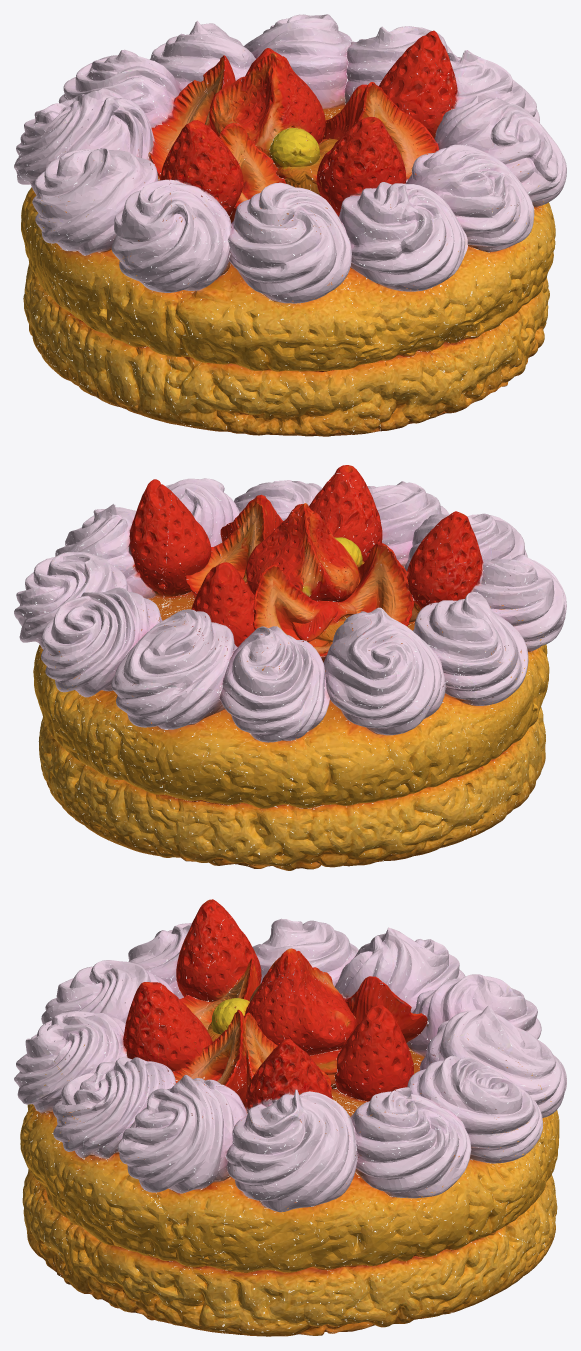
Rendered from cake.glb.
3 views of the same model, one above another, from view 1: azimuth 30°, elevation 25°; view 2: azimuth 150°, elevation 25°; view 3: azimuth 270°, elevation 25° (orthographic). The views are drawn at different scales.
Parts seen in each view (by area): view 1: world; view 2: world; view 3: world.
Part boxes in pixels (x1,y1,x2,y2): world: [14, 14, 566, 436]; world: [14, 465, 566, 870]; world: [14, 899, 566, 1336].
Bounding box in the file's own units: 0.2193 × 0.1286 × 0.22.
1 material, 1 textured.
